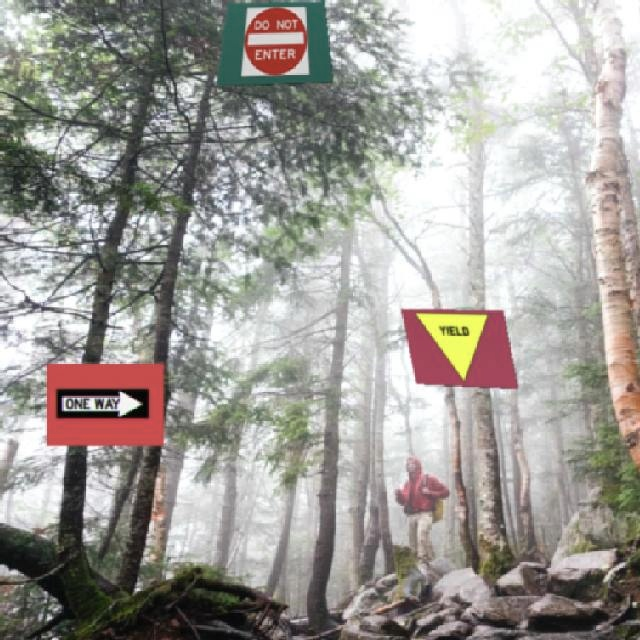DO_NOT_ENTER: (239, 5, 315, 76)
ONE_WAY_ right: (55, 388, 147, 417)
YIELD: (413, 309, 501, 383)
